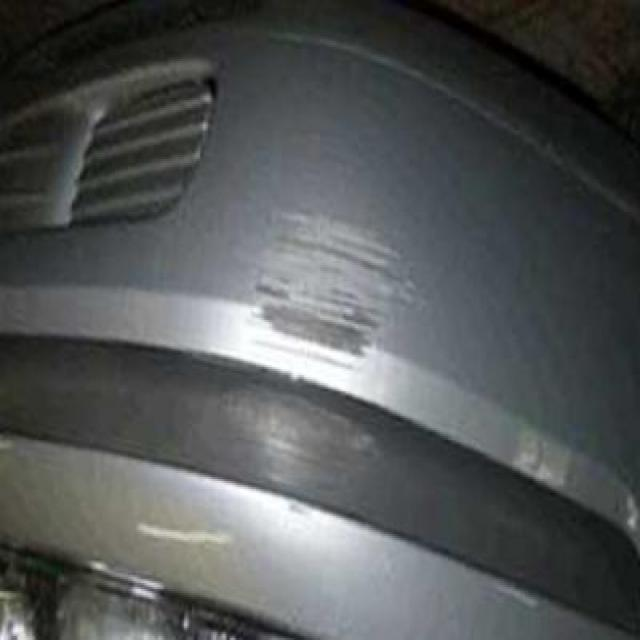scratch: (264, 206, 406, 361), (227, 380, 368, 498)
